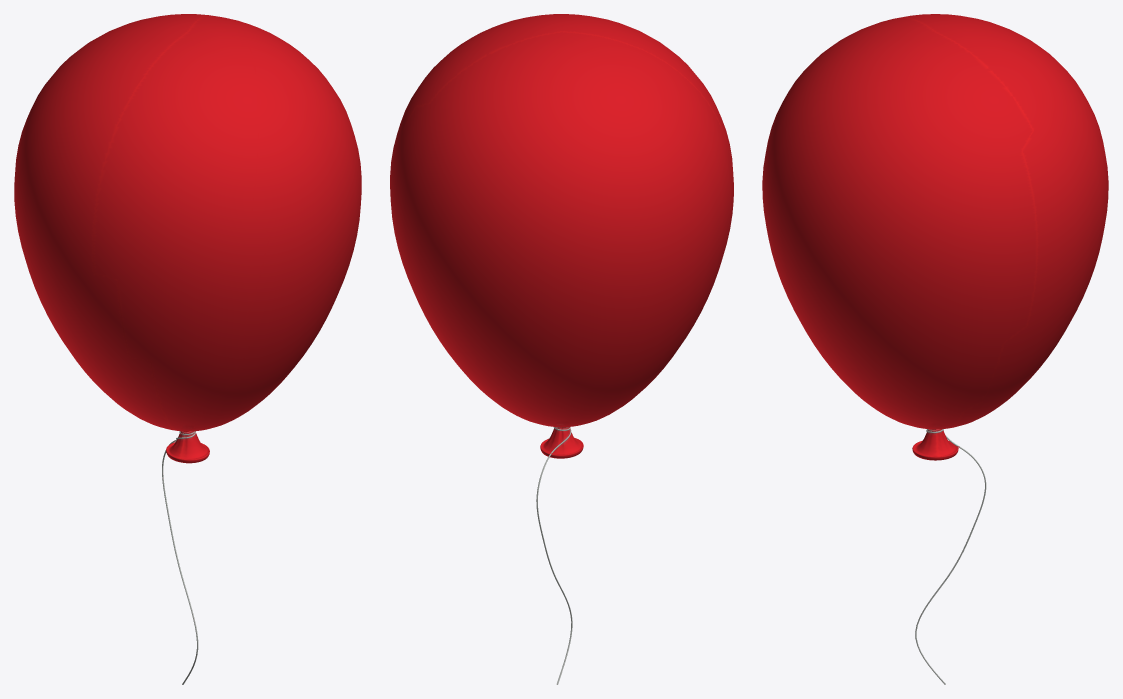
File: Balloon 2.fbx
3 renders of one model, left to right at view 1: azimuth 30°, elevation 25°; view 2: azimuth 150°, elevation 25°; view 3: azimuth 270°, elevation 25°, orthographic.
Parts seen in each view (by area): view 1: node_id7, node_id5; view 2: node_id7, node_id5; view 3: node_id7, node_id5.
Part boxes in pixels (x1=…): node_id7: x1=14, y1=14, x2=361, y2=463; node_id5: x1=162, y1=431, x2=198, y2=684; node_id7: x1=390, y1=14, x2=733, y2=458; node_id5: x1=536, y1=427, x2=572, y2=684; node_id7: x1=762, y1=14, x2=1108, y2=460; node_id5: x1=915, y1=429, x2=986, y2=684.
Size of the model in its own units: 0.2459 by 0.512 by 0.2459.
Materials: 2 (2 with a texture image).
